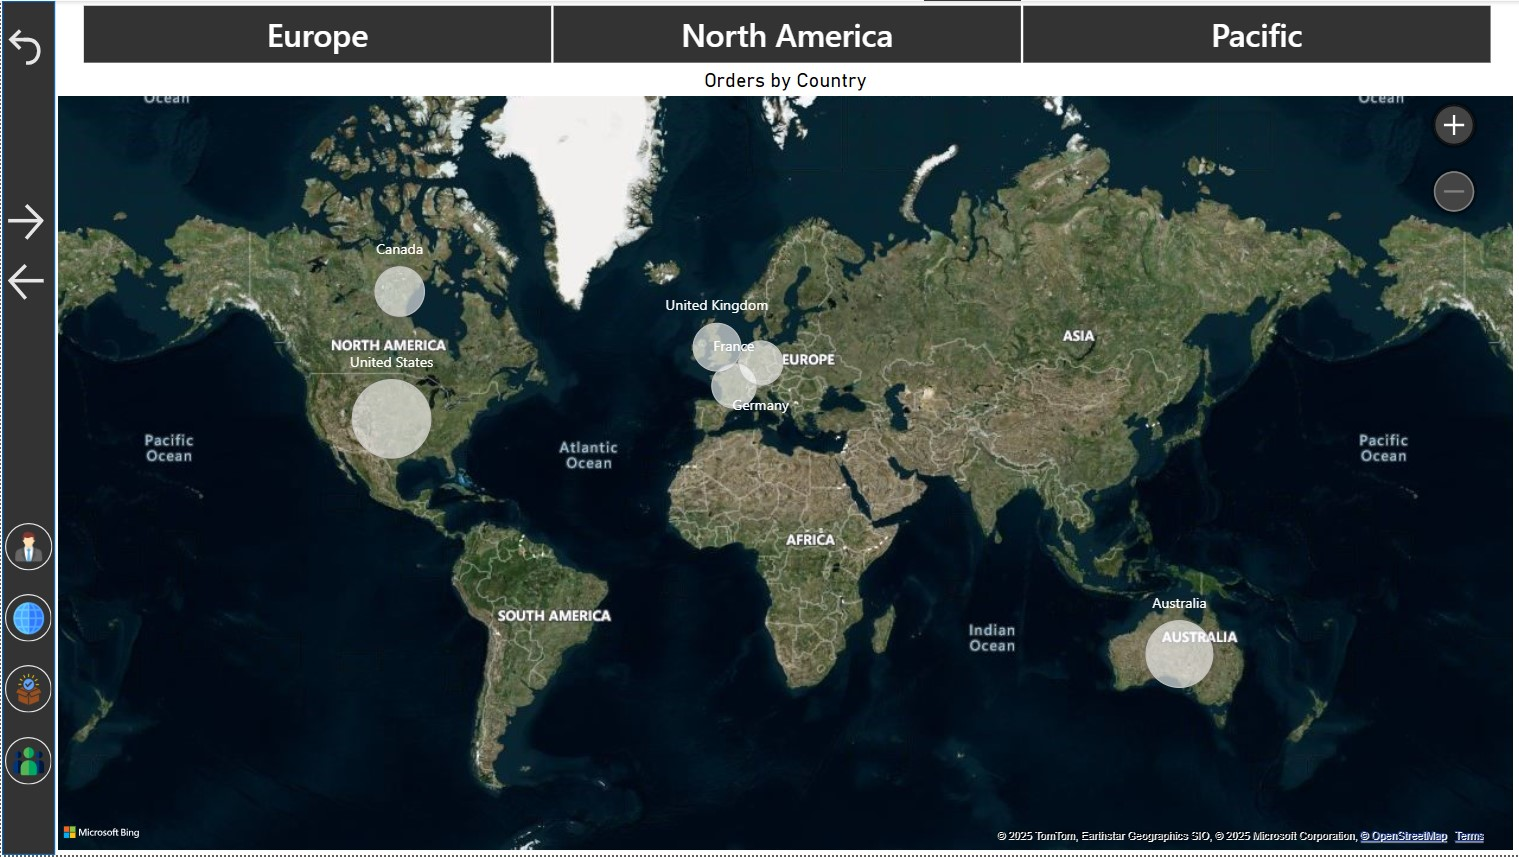

What the dashboard file says about the page in this screenshot:
{"tool":"powerbi","page":{"name":"Map","canvas":[1280,720],"ordinal":1},"visuals":[{"type":"map","title":"Orders by Country","fields":{"Category":["Territory Lookup.Hierarchy.Country"],"Size":["Measures Collection.Total Orders"]},"box":[43,56.5,1236.8,663.5],"z":0},{"type":"slicer","fields":{"Values":["Territory Lookup.Hierarchy.Continent"]},"box":[43.8,0,1236,56.5],"z":1000},{"type":"actionButton","box":[4,440,40,40],"z":1000,"group":"g1"},{"type":"shape","title":"Left Navbar","box":[0.9,0,44.8,720],"z":2000},{"type":"actionButton","box":[3.6,500,39.4,40.3],"z":2000,"group":"g1"},{"type":"group","id":"g1","title":"Navigation Option","box":[3.6,440,40.4,220.3],"z":3000},{"type":"actionButton","box":[3.6,560,39.4,40.3],"z":3000,"group":"g1"},{"type":"actionButton","box":[0,18.8,44.8,40.3],"z":4000},{"type":"actionButton","box":[3.6,620,39.4,40.3],"z":4000,"group":"g1"},{"type":"actionButton","box":[0,165.7,44.8,40.3],"z":5000},{"type":"actionButton","box":[1.8,216.7,44.8,40.3],"z":6000}]}

Visuals, with their boxes on the page's 1280x720 design canvas (x1, y1, x2, y2). These are canvas units, not pixel positions in the 1519x857 screenshot, which may show the page scaled, cropped or inside an application window:
"Orders by Country" map: select_region(43, 56, 1280, 720)
slicer - Territory Lookup.Hierarchy.Continent: select_region(44, 0, 1280, 56)
actionButton: select_region(4, 440, 44, 480)
"Left Navbar" shape: select_region(1, 0, 46, 720)
actionButton: select_region(4, 500, 43, 540)
"Navigation Option" group: select_region(4, 440, 44, 660)
actionButton: select_region(4, 560, 43, 600)
actionButton: select_region(0, 19, 45, 59)
actionButton: select_region(4, 620, 43, 660)
actionButton: select_region(0, 166, 45, 206)
actionButton: select_region(2, 217, 47, 257)
